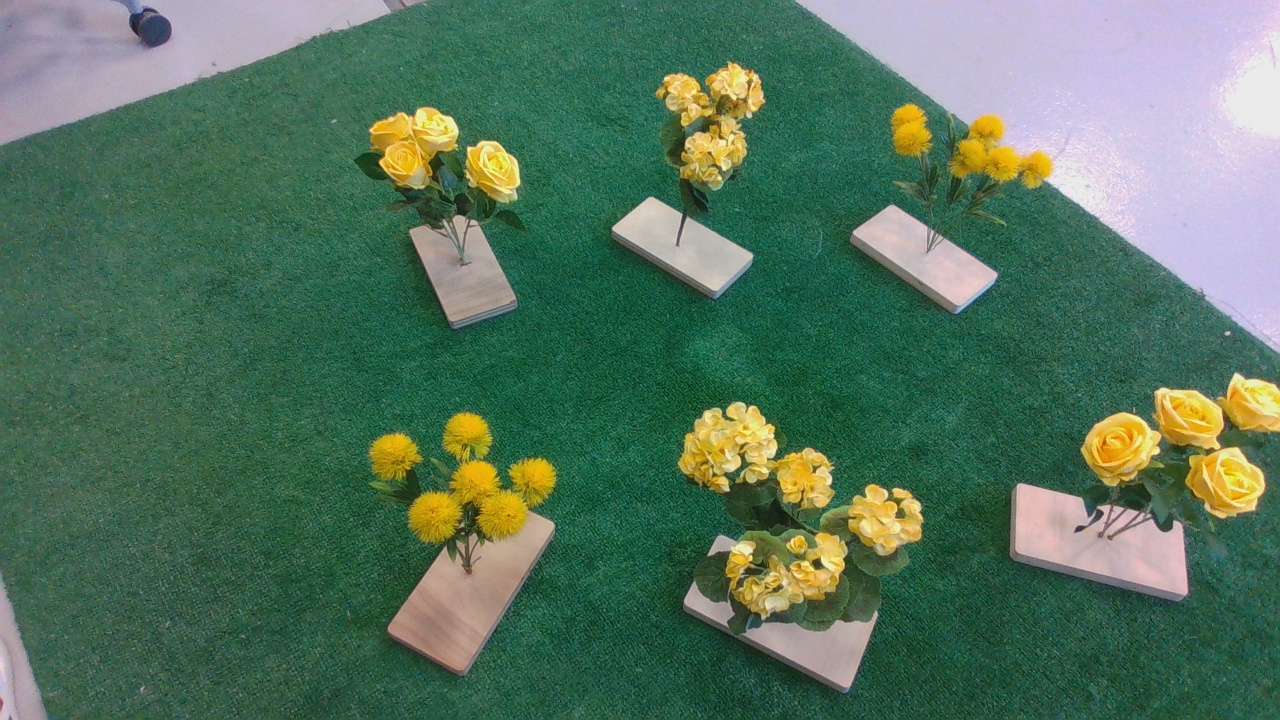dandelion: (350, 411, 572, 567), (880, 96, 1064, 241)
geranium: (666, 398, 937, 644), (643, 53, 774, 230)
rose: (1074, 348, 1280, 540), (362, 101, 544, 247)
